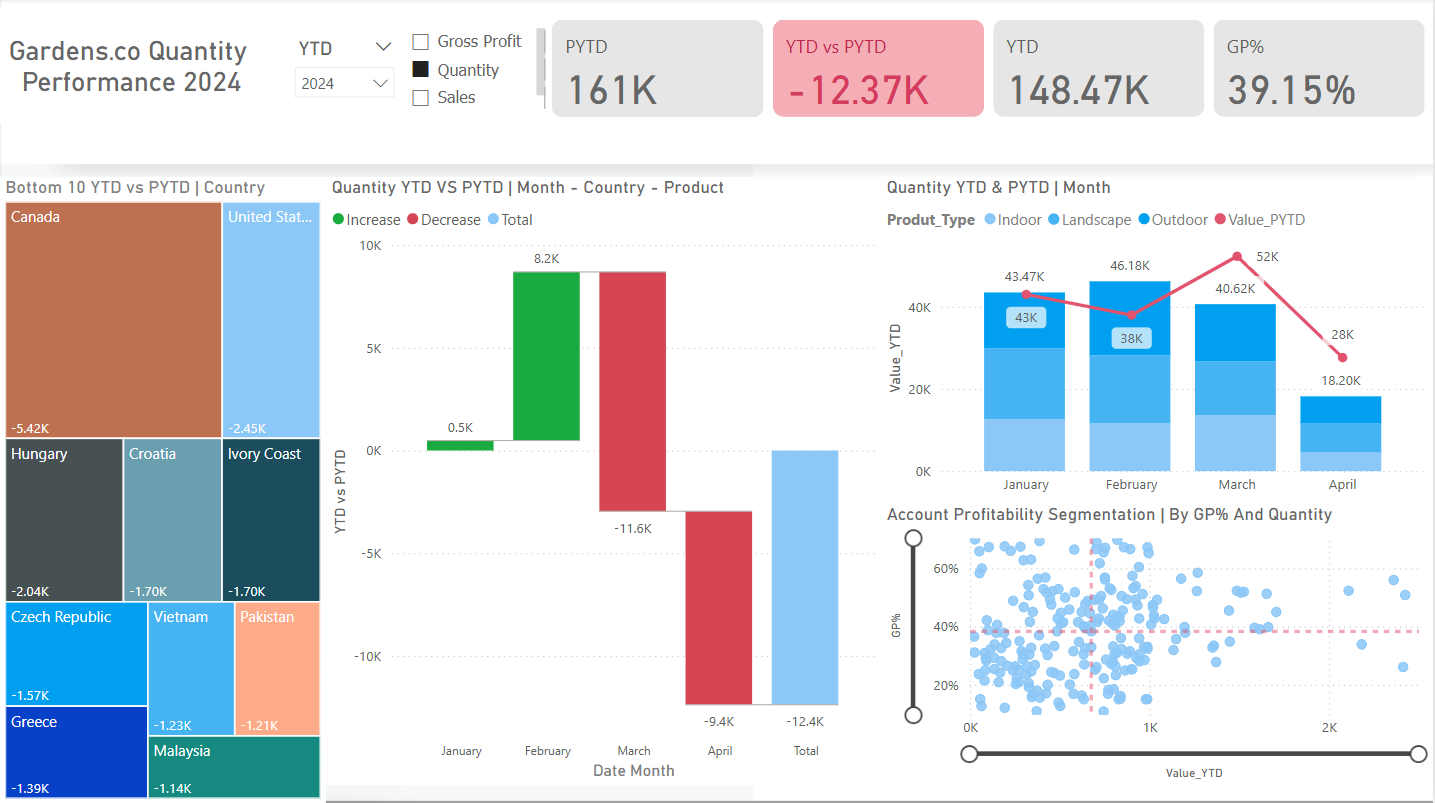

The page's visual inventory and layout, read from the dashboard file:
{"tool":"powerbi","page":{"name":"Performance_report","canvas":[1280,720],"ordinal":0},"visuals":[{"type":"cardVisual","fields":{"Data":["formulas.sl_PYTD","formulas.YTD vs PYTD","formulas.sl_YTD","formulas.GP%"]},"box":[488,14.5,792.8,97.1],"z":0},{"type":"slicer","fields":{"Values":["slicer_values.Values"]},"box":[358.4,24.6,129.5,78.2],"z":1000},{"type":"slicer","fields":{"Values":["date_data.Date.Variation.Date Hierarchy.Year"]},"box":[254.6,31.3,103.8,64.8],"z":2000},{"type":"treemap","title":"Bottom 10 YTD vs PYTD | Country","fields":{"Values":["formulas.YTD vs PYTD"],"Group":["Accounts_data.country"]},"box":[0,159.7,291.4,560.5],"z":3000},{"type":"waterfallChart","fields":{"Y":["formulas.YTD vs PYTD"],"Category":["date_data.Date.Variation.Date Hierarchy.Month","Accounts_data.country","product_data.Produt_Type","product_data.Product_Name"]},"box":[291.8,159.4,495.3,543.1],"z":4000},{"type":"lineStackedColumnComboChart","fields":{"Y":["formulas.sl_YTD"],"Y2":["formulas.sl_PYTD"],"Category":["date_data.Date.Variation.Date Hierarchy.Month","date_data.Date.Variation.Date Hierarchy.Quarter"],"Series":["product_data.Produt_Type"]},"box":[787.1,159.4,492.9,293],"z":5000},{"type":"scatterChart","fields":{"Y":["formulas.GP%"],"X":["formulas.sl_YTD"],"Category":["Accounts_data.Account"]},"box":[787.4,452.3,492.3,250.6],"z":5001},{"type":"card","fields":{"Values":["formulas.Report_title"]},"box":[0,7.8,228.9,103.8],"z":5002}]}

Visuals, with their boxes in screenshot pixels (x1, y1, x2, y2), scaled from the page's 1280x720 canvas onto the 1435x803 screenshot:
cardVisual - formulas.sl_PYTD x formulas.YTD vs PYTD: 547,16,1434,124
slicer - slicer_values.Values: 402,27,547,115
slicer - date_data.Date.Variation.Date Hierarchy.Year: 285,35,402,107
"Bottom 10 YTD vs PYTD | Country" treemap: 0,178,327,802
waterfallChart - formulas.YTD vs PYTD x date_data.Date.Variation.Date Hierarchy.Month: 327,178,882,783
lineStackedColumnComboChart - formulas.sl_YTD x formulas.sl_PYTD: 882,178,1434,505
scatterChart - formulas.GP% x formulas.sl_YTD: 883,504,1434,784
card - formulas.Report_title: 0,9,257,124
